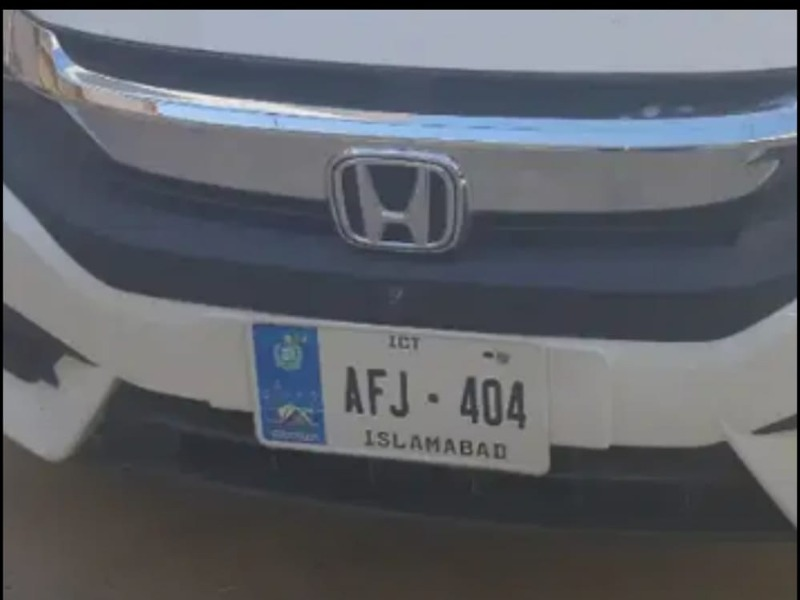License Plate: (247, 316, 556, 480)
